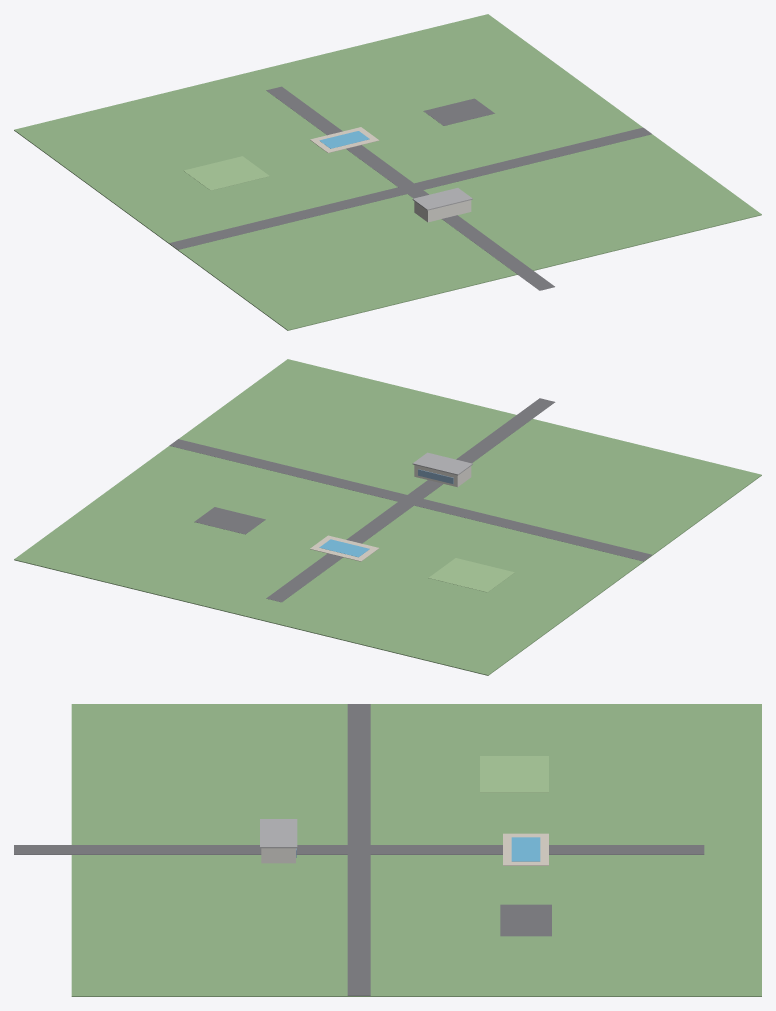
Rendered from site.lod.glb.
3 renders of one model, top to bottom at view 1: azimuth 30°, elevation 25°; view 2: azimuth 150°, elevation 25°; view 3: azimuth 270°, elevation 25°, orthographic. The views are drawn at different scales.
Parts seen in each view (by area): view 1: Ground, Road_Cross, Road_Main, Amenity_Garden, Slab, Roof, Body, Deck; view 2: Ground, Road_Cross, Road_Main, Amenity_Garden, Slab, Roof, Deck; view 3: Ground, Road_Cross, Road_Main, Amenity_Garden, Slab, Roof, Deck, Water, Body.
Boxes of the visible parts, left/top/right/bottom form: Ground: left=14, top=14, right=761, bottom=330; Road_Cross: left=169, top=127, right=651, bottom=249; Road_Main: left=266, top=86, right=554, bottom=290; Amenity_Garden: left=183, top=156, right=269, bottom=190; Slab: left=423, top=98, right=494, bottom=125; Roof: left=412, top=188, right=472, bottom=210; Body: left=414, top=200, right=471, bottom=222; Deck: left=310, top=127, right=379, bottom=153; Ground: left=14, top=359, right=761, bottom=675; Road_Cross: left=169, top=439, right=651, bottom=561; Road_Main: left=266, top=398, right=555, bottom=602; Amenity_Garden: left=428, top=558, right=514, bottom=592; Slab: left=194, top=507, right=265, bottom=534; Roof: left=412, top=452, right=472, bottom=475; Deck: left=310, top=535, right=379, bottom=561; Ground: left=71, top=704, right=761, bottom=996; Road_Cross: left=347, top=704, right=370, bottom=995; Road_Main: left=14, top=845, right=704, bottom=854; Amenity_Garden: left=480, top=756, right=548, bottom=792; Slab: left=500, top=904, right=551, bottom=936; Roof: left=260, top=819, right=297, bottom=848; Deck: left=503, top=833, right=548, bottom=865; Water: left=511, top=837, right=540, bottom=861; Body: left=261, top=848, right=295, bottom=863.
Bounding box in the file's own units: 240 × 6.9 × 260.
